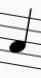note: (7, 4, 34, 73)
